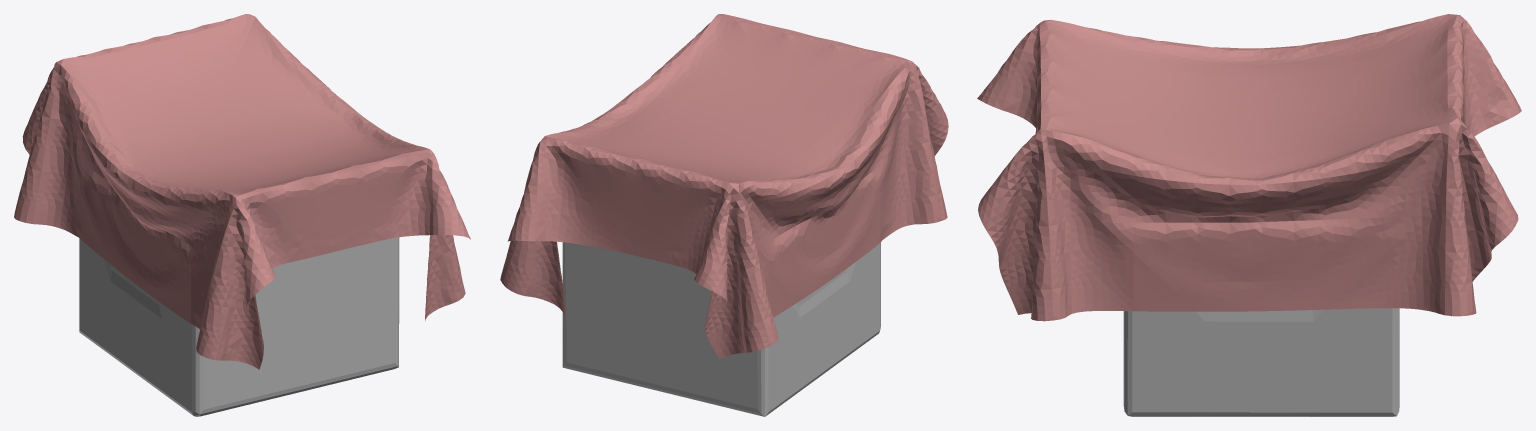
File: level_2.glb
3 renders of one model, left to right at view 1: azimuth 30°, elevation 25°; view 2: azimuth 150°, elevation 25°; view 3: azimuth 270°, elevation 25°, orthographic. The views are drawn at different scales.
Visible parts, largest first — view 1: world, object.obj; view 2: world, object.obj; view 3: world, object.obj.
Boxes of the visible parts, bbox=[...] form: world: bbox=[14, 14, 470, 369]; object.obj: bbox=[79, 237, 399, 416]; world: bbox=[500, 14, 948, 359]; object.obj: bbox=[562, 242, 880, 416]; world: bbox=[977, 14, 1521, 321]; object.obj: bbox=[1123, 308, 1399, 416].
Bounding box in the file's own units: 0.3379 × 0.2977 × 0.4991.
